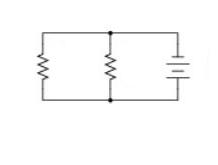resistor: (31, 43, 54, 82), (97, 47, 121, 83)
